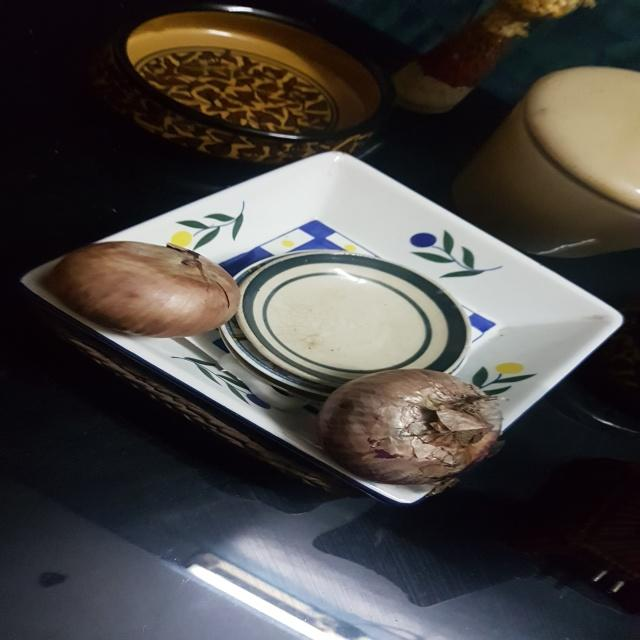onion: (316, 362, 508, 487), (53, 227, 249, 348)
